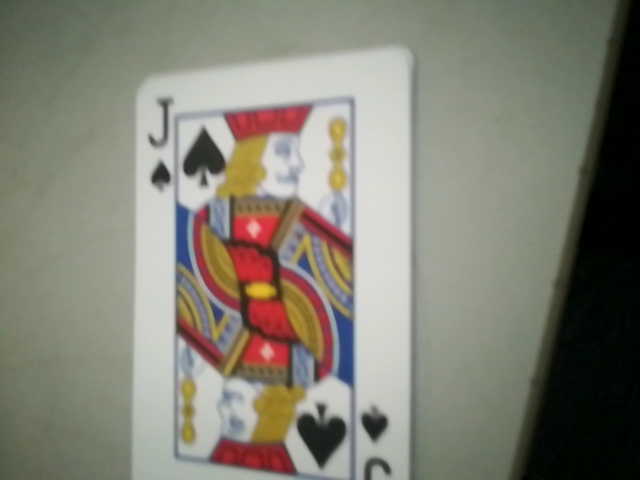ht j: (132, 86, 177, 197)
